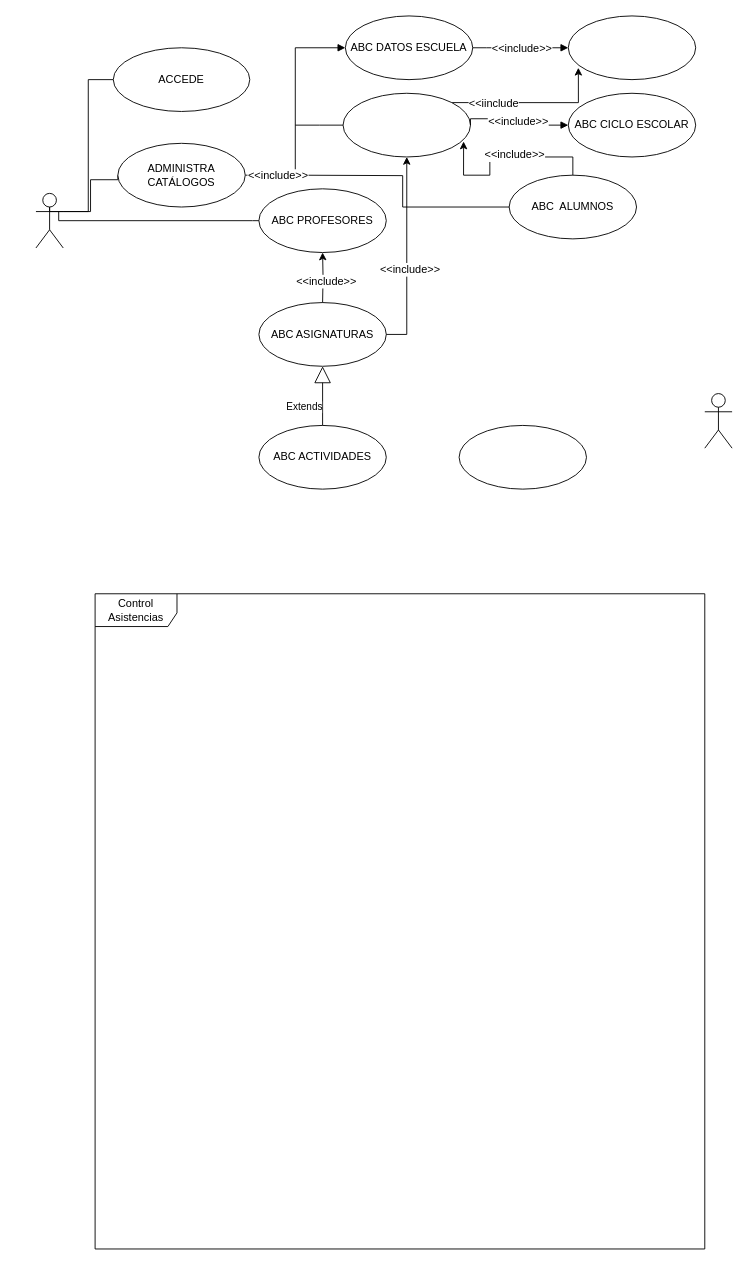
The diagram is 754 pixels wide and 1265 high, and some of its shapes have lost their labels. Each missing label, with the centre of its shape:
"ABC GRADOS GRUPOS" belongs at (x=406, y=124).
"ABC TURNO" belongs at (x=631, y=47).
"Administrador" belongs at (x=49, y=220).
"Profesor" belongs at (x=718, y=420).
"Use Case" belongs at (x=522, y=457).
